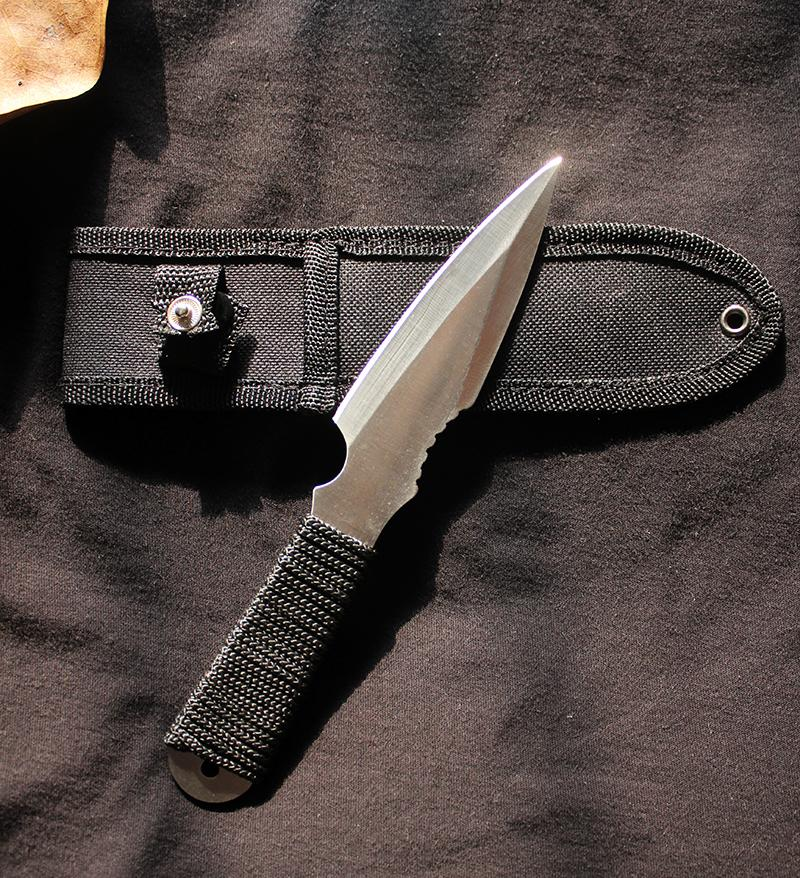knife: (91, 115, 675, 828)
